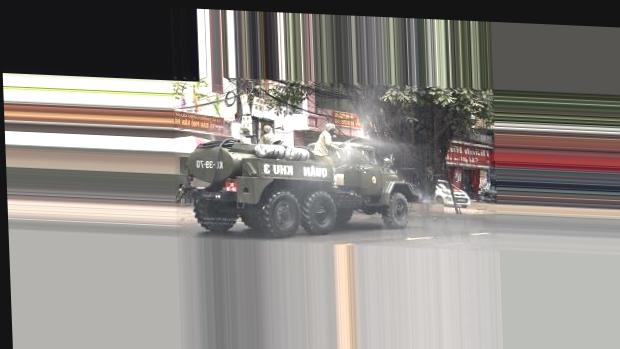License_Plate: (222, 180, 242, 195)
